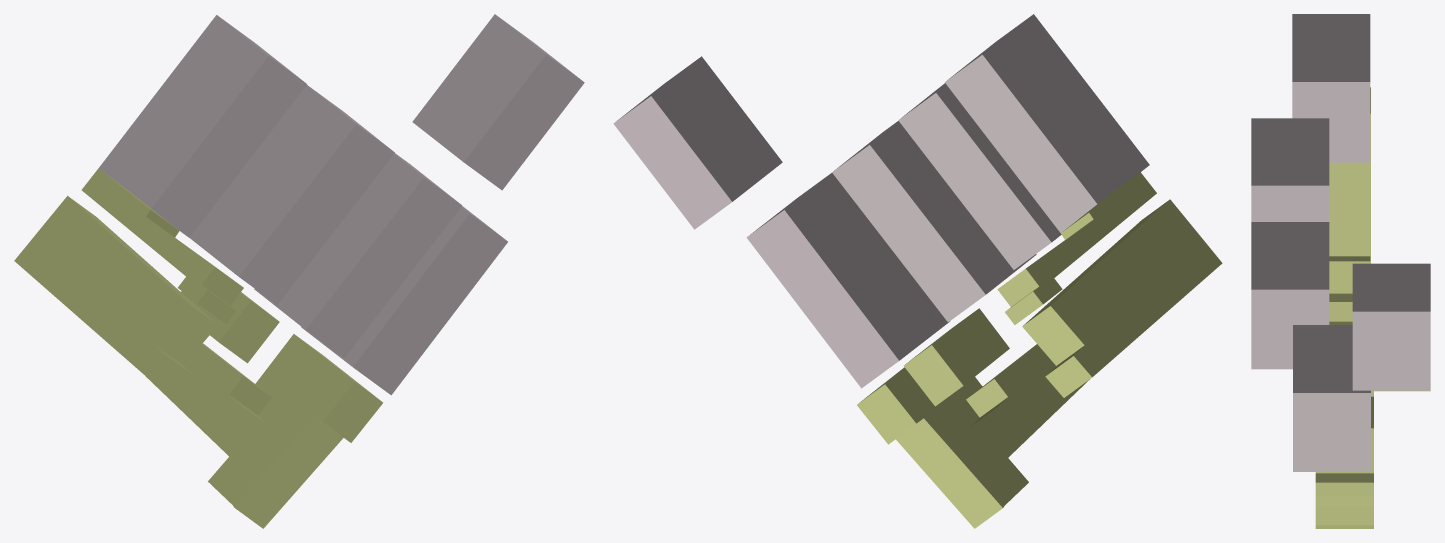
The picture shows the model from 3 angles, left to right: view 1: azimuth 30°, elevation 25°; view 2: azimuth 150°, elevation 25°; view 3: azimuth 270°, elevation 25°; orthographic projection. The views are drawn at different scales.
Parts seen in each view (by area): view 1: 0_0_1_1_3_2_0_1; view 2: 0_0_1_1_3_2_0_1; view 3: 0_0_1_1_3_2_0_1.
Part boxes in pixels (x1,y1,x2,y2): 0_0_1_1_3_2_0_1: (14, 14, 584, 528); 0_0_1_1_3_2_0_1: (613, 14, 1222, 528); 0_0_1_1_3_2_0_1: (1251, 14, 1430, 528).
Size of the model in its own units: 101 by 85.8 by 27.6.
